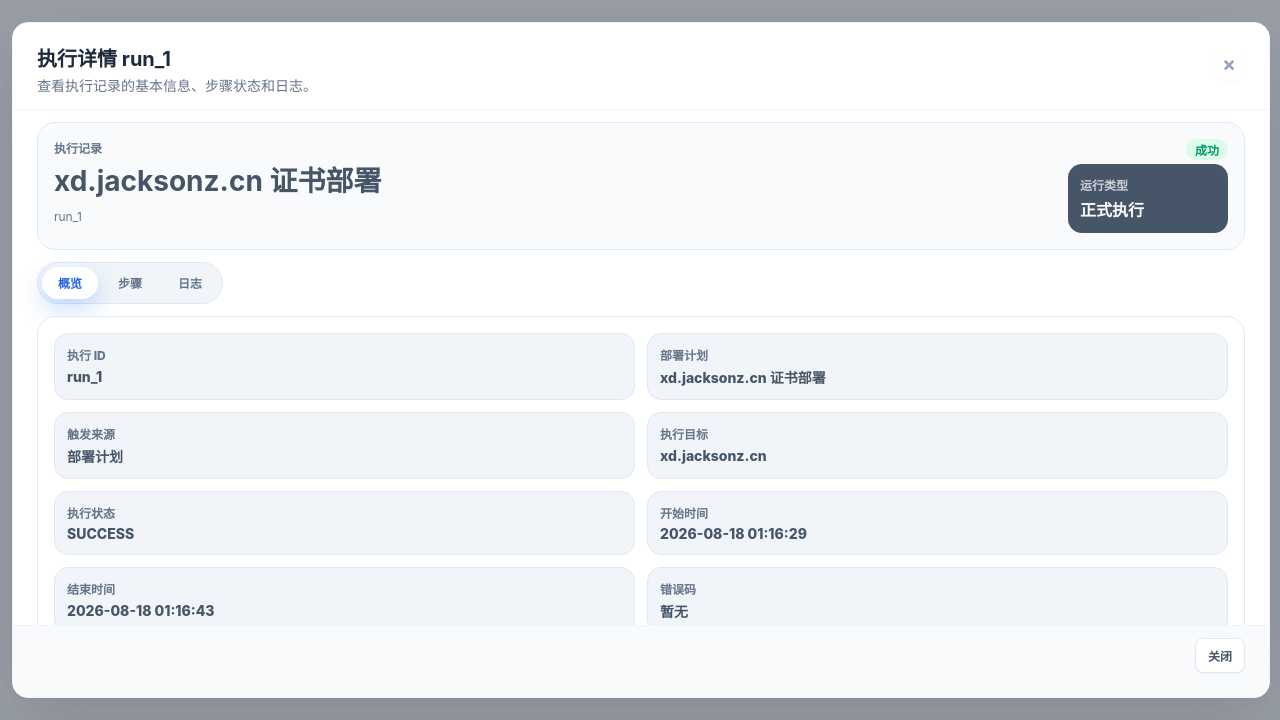
Test: GcExecutionDetailModal › 统一展示执行概览、步骤和日志标签页
This screenshot has width=1280, height=720.
Click the tab "步骤". click: [130, 283]
box: [102,267,158,299]
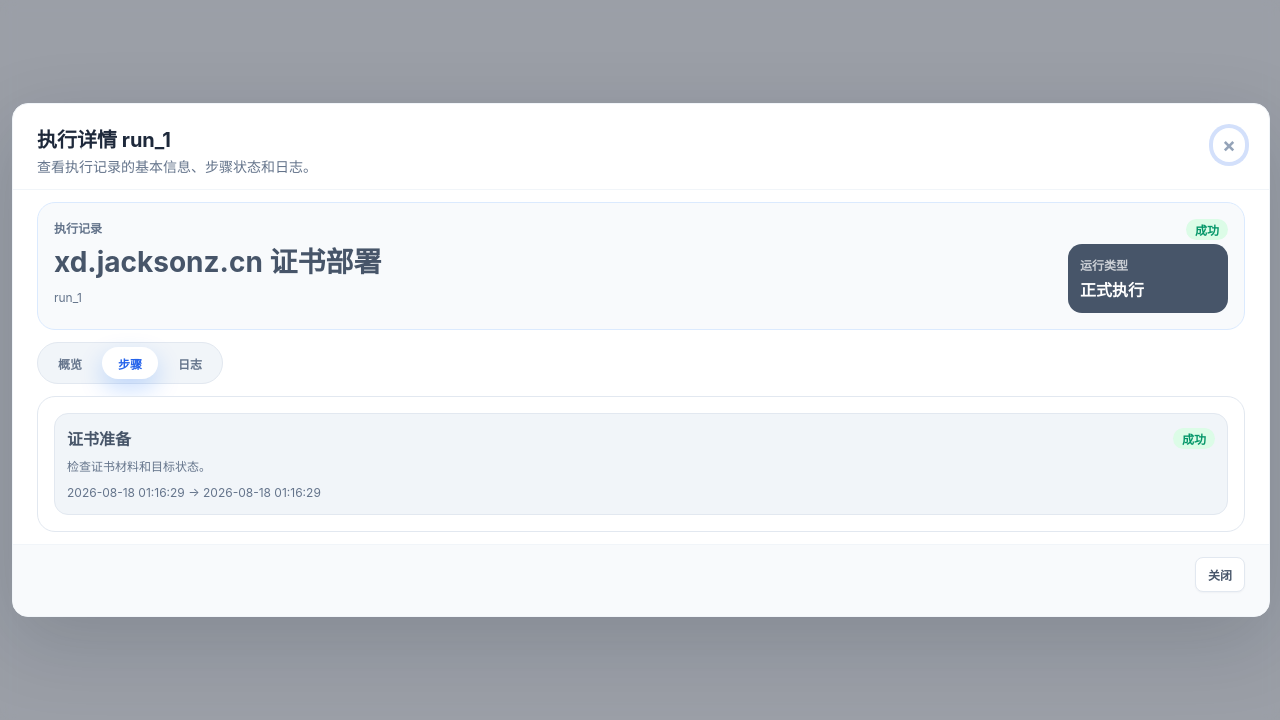
Check: the text "证书准备" is shown, box [67,426,131,450]
Click the tab "日志". click: [190, 363]
box: [162,347,218,379]
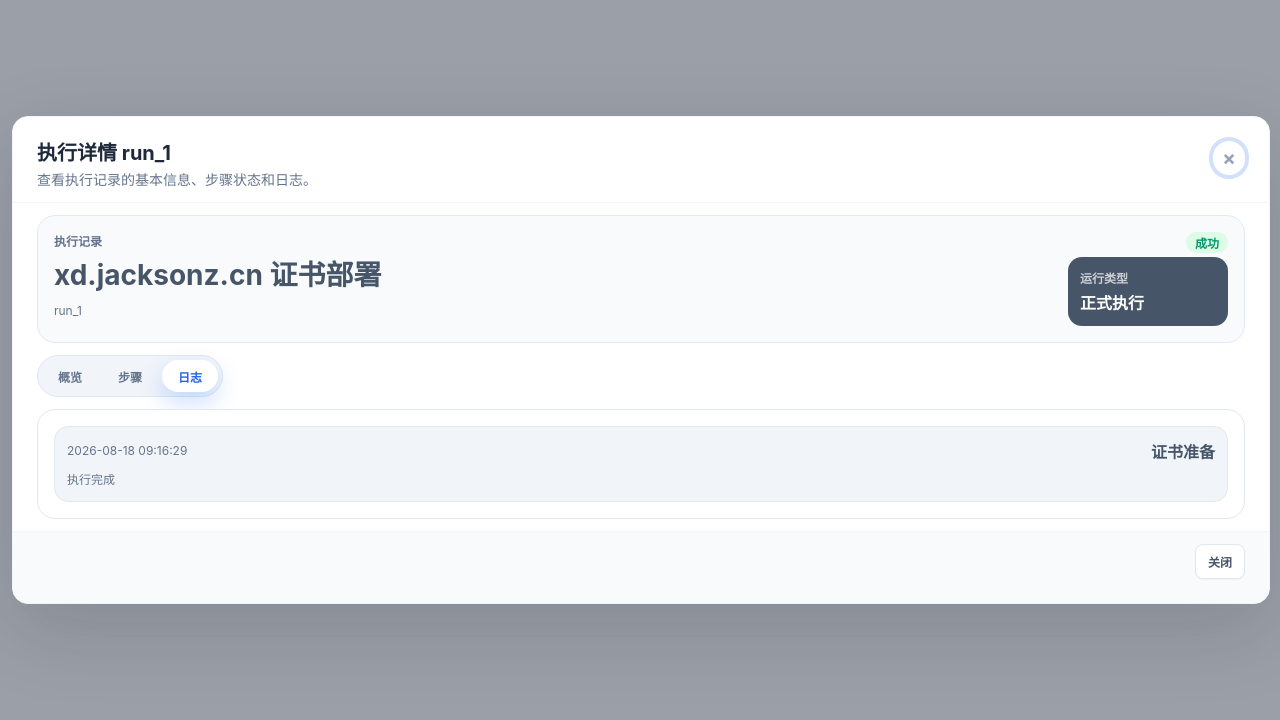
Check: the text "执行完成" is shown, box [67,472,115,487]
